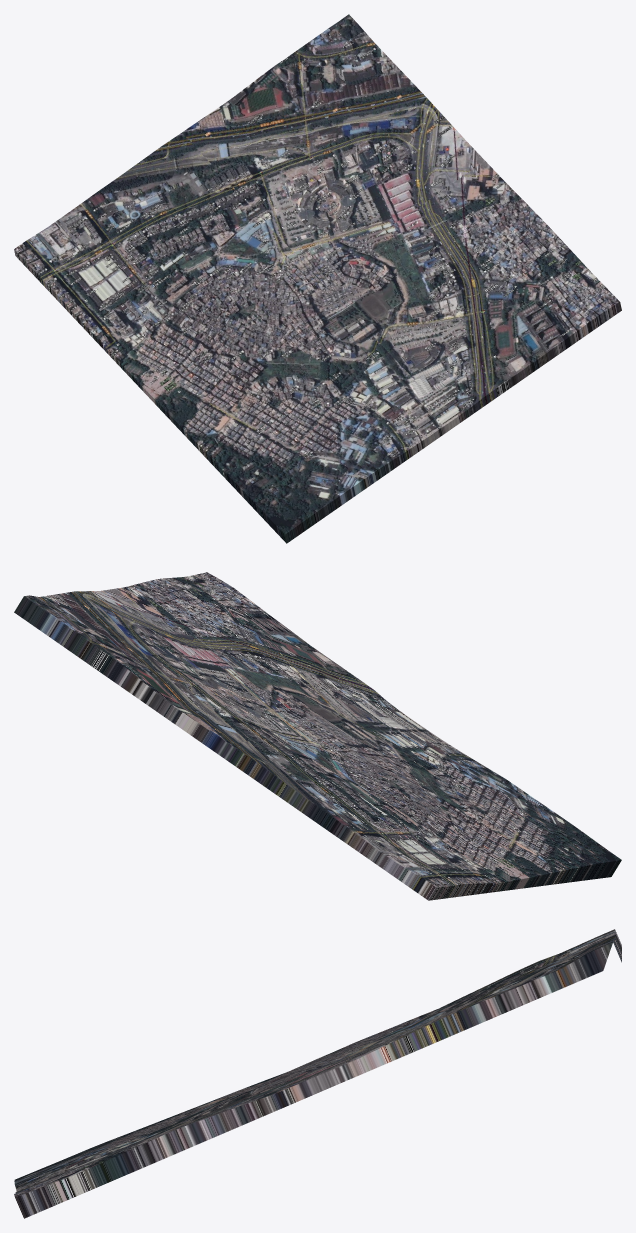
3 views of the same model, one above another, from view 1: azimuth 30°, elevation 25°; view 2: azimuth 150°, elevation 25°; view 3: azimuth 270°, elevation 25° (orthographic). The views are drawn at different scales.
Parts seen in each view (by area): view 1: 1_0_13; view 2: 1_0_13; view 3: 1_0_13.
Boxes of the visible parts, bbox=[...] form: 1_0_13: bbox=[14, 14, 621, 543]; 1_0_13: bbox=[14, 572, 621, 900]; 1_0_13: bbox=[14, 929, 621, 1218].
Size of the model in its own units: 1235 by 921 by 1137.
Materials: 1 (1 with a texture image).
